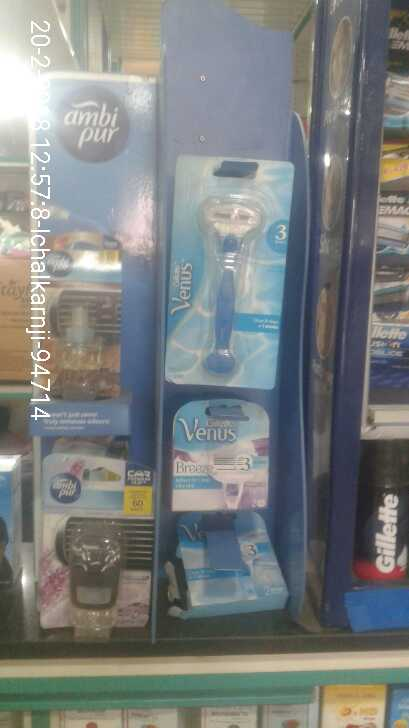beauty: (158, 159, 286, 394), (170, 513, 289, 616), (175, 406, 273, 506), (352, 439, 409, 584)
home: (36, 456, 159, 640), (33, 239, 129, 407)
